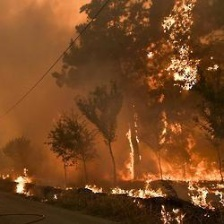fire: (7, 104, 220, 224), (158, 7, 214, 91)
